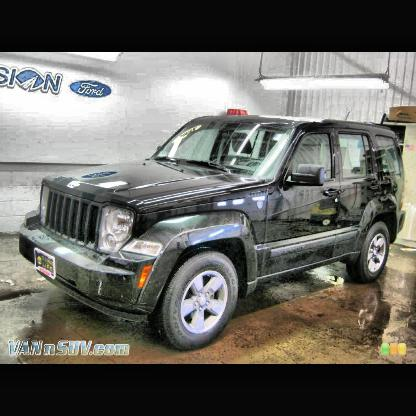Jeep Liberty SUV 2012: (17, 107, 409, 356)
